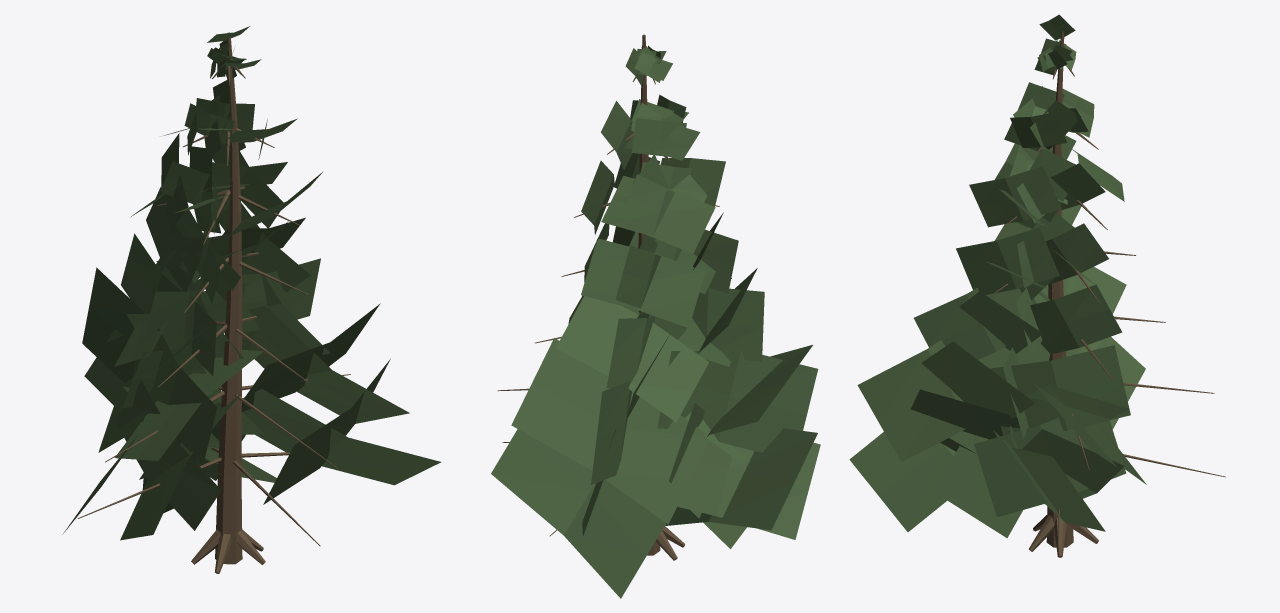
File: medium_pine.glb
3 renders of one model, left to right at view 1: azimuth 30°, elevation 25°; view 2: azimuth 150°, elevation 25°; view 3: azimuth 270°, elevation 25°, orthographic. The views are drawn at different scales.
Visible parts, largest first — view 1: world-scenery/medium_pine; view 2: world-scenery/medium_pine; view 3: world-scenery/medium_pine.
Boxes of the visible parts, x1,y1,x2,y2 form: world-scenery/medium_pine: [62, 26, 441, 573]; world-scenery/medium_pine: [491, 34, 820, 598]; world-scenery/medium_pine: [849, 14, 1225, 557].
Size of the model in its own units: 2.76 by 4.09 by 2.9.
